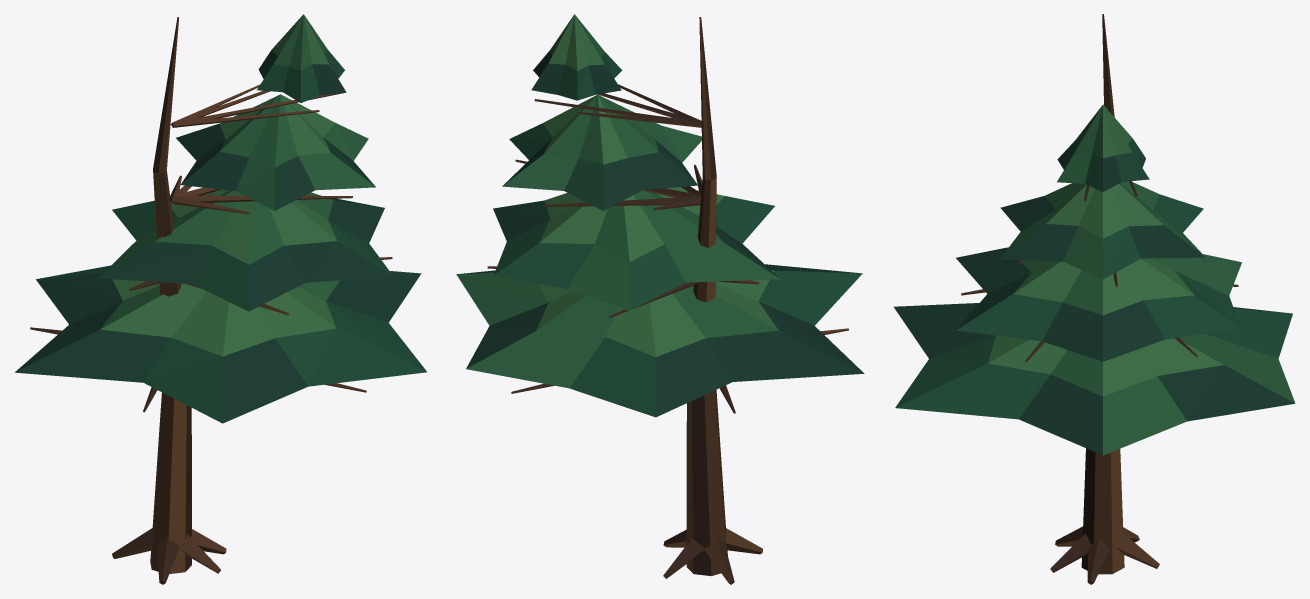
File: tree_pine_windswept.obj
The picture shows the model from 3 angles, left to right: view 1: azimuth 30°, elevation 25°; view 2: azimuth 150°, elevation 25°; view 3: azimuth 270°, elevation 25°; orthographic projection.
Visible parts, largest first — view 1: tree_pine_windswept; view 2: tree_pine_windswept; view 3: tree_pine_windswept.
Part boxes in pixels (x1,y1,x2,y2): tree_pine_windswept: (15,14,426,584); tree_pine_windswept: (456,14,864,584); tree_pine_windswept: (894,14,1295,584).
Size of the model in its own units: 460 by 590 by 387.
1 material, 1 textured.
